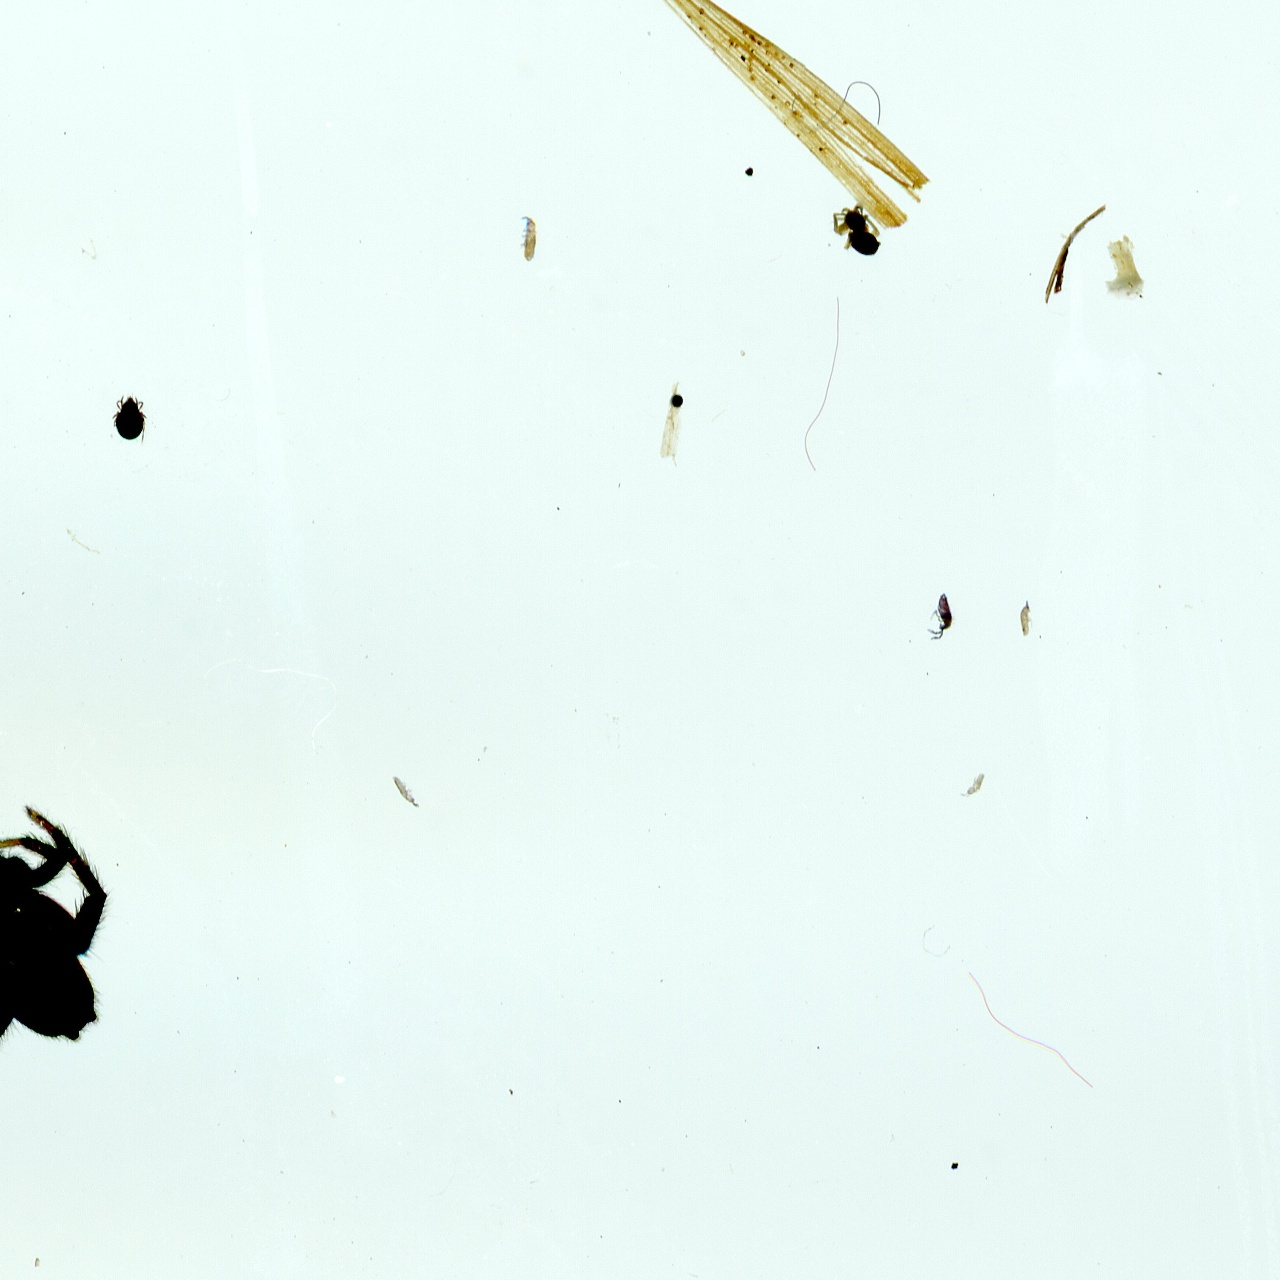arthropod: (0, 654, 200, 1146), (826, 199, 891, 261), (104, 391, 152, 447), (383, 765, 429, 818), (923, 584, 958, 649), (955, 765, 992, 804), (519, 205, 542, 265), (1015, 593, 1037, 643)
